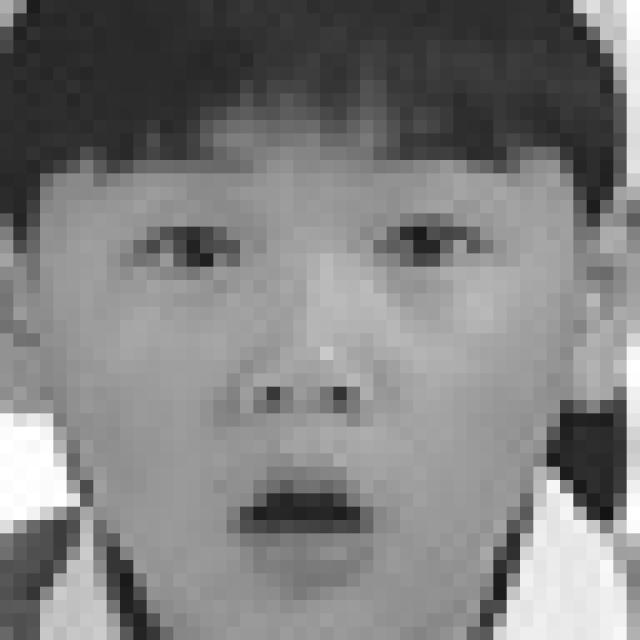surprise: (70, 118, 524, 577)
